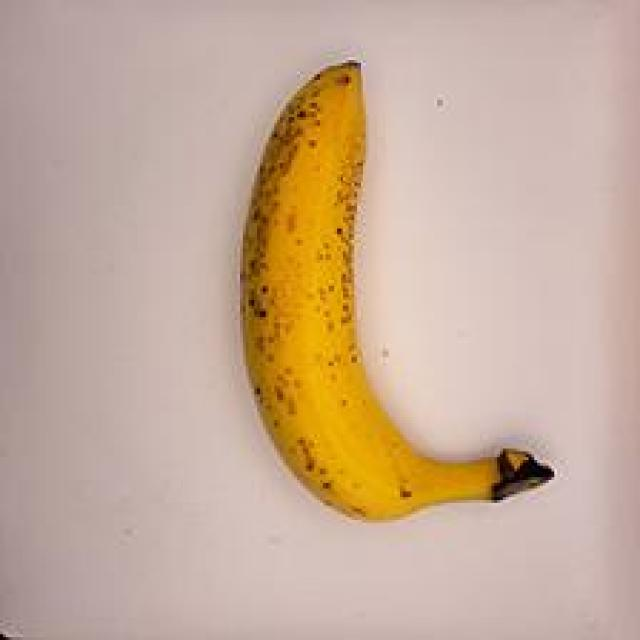Overripe: (194, 38, 564, 543)
